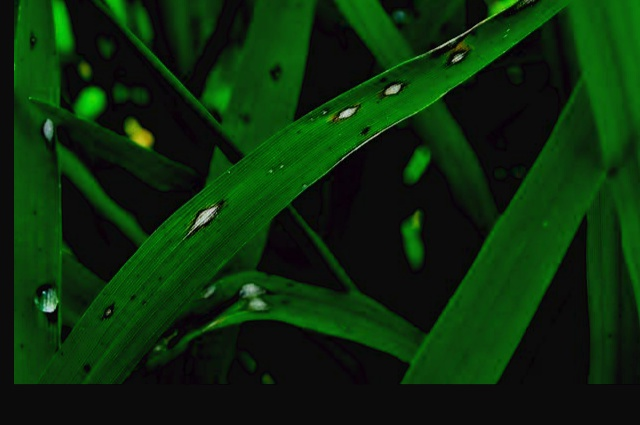Brown_Spot: (183, 194, 228, 233), (331, 91, 360, 125), (442, 35, 474, 65), (379, 74, 416, 99), (38, 110, 61, 147)
